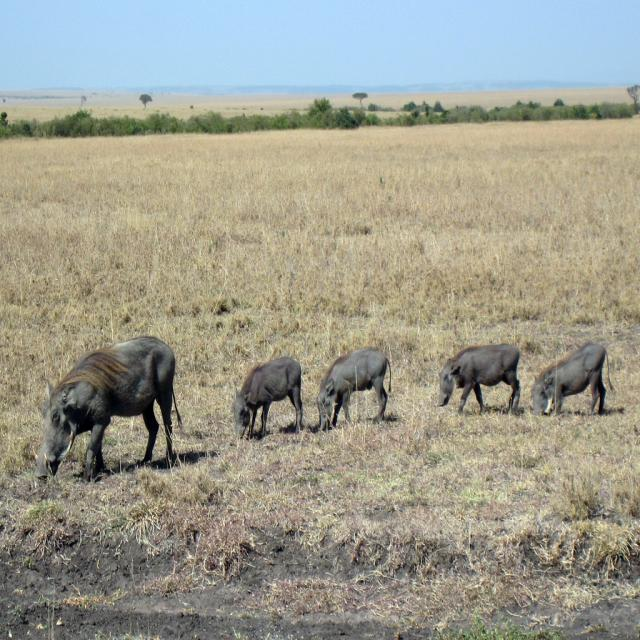Pig: (34, 333, 182, 482), (529, 340, 615, 418), (435, 342, 522, 417), (318, 345, 392, 433), (229, 354, 304, 439)
